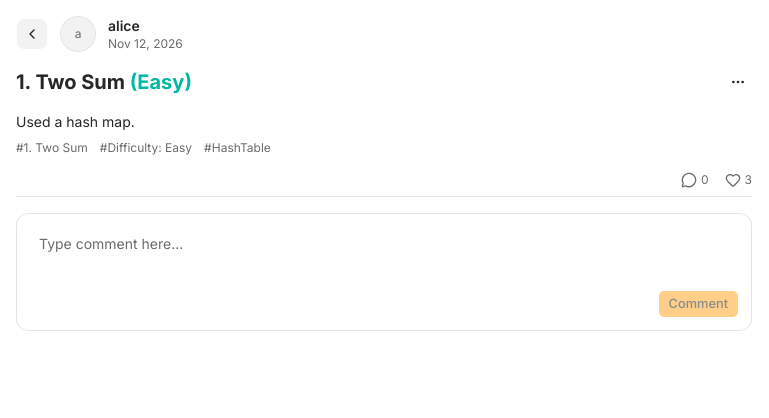
Test: PostDetail › adding a comment shows it in the list
This screenshot has width=769, height=418.
Type "Nice!" into the text box with placeholder "Type comment here..." at (384, 258), box [29, 226, 739, 290]
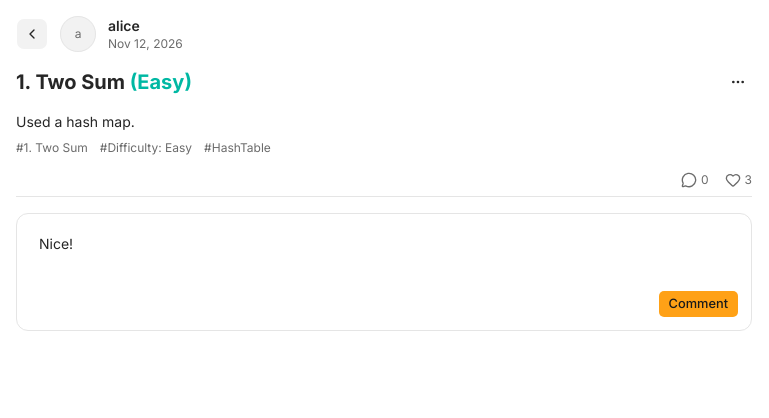
Click the button "Comment" at (698, 304), box [658, 290, 739, 318]
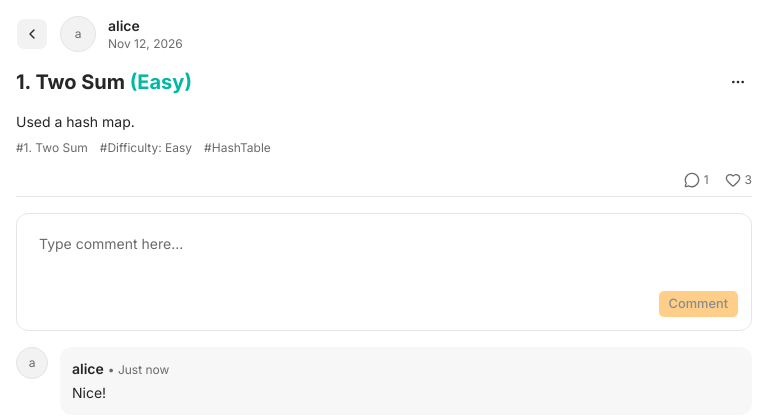
Expected: the text "Nice!" is shown, [72, 384, 106, 401]
